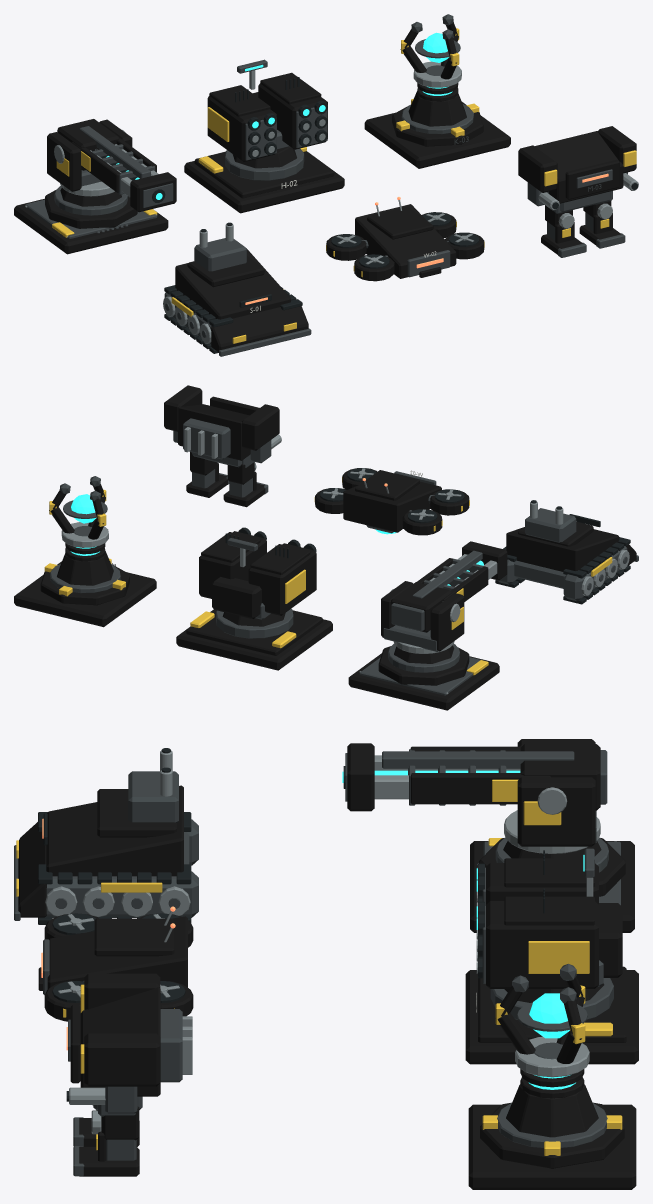
Rendered from Monolith_Tower_Defense_Collection.glb.
3 renders of one model, top to bottom at view 1: azimuth 30°, elevation 25°; view 2: azimuth 150°, elevation 25°; view 3: azimuth 270°, elevation 25°, orthographic. The views are drawn at different scales.
Parts seen in each view (by area): view 1: S01_Sledge_Chassis, Elevation.001_Geometry, W02_Wraith_Chassis, M03_Monolith_Chassis, K03_Arc_Chassis, H02_Havoc_Chassis, R01_Bastion_Chassis, Elevation_Geometry, Field_Array_Geometry, Azimuth_Geometry, Leg_L_Geometry, Leg_R_Geometry; view 2: S01_Sledge_Chassis, W02_Wraith_Chassis, K03_Arc_Chassis, M03_Monolith_Chassis, Elevation.001_Geometry, R01_Bastion_Chassis, H02_Havoc_Chassis, Elevation_Geometry, Azimuth_Geometry, Field_Array_Geometry, Azimuth.001_Geometry, Leg_L_Geometry (+1 smaller); view 3: S01_Sledge_Chassis, K03_Arc_Chassis, Elevation.001_Geometry, M03_Monolith_Chassis, Elevation_Geometry, W02_Wraith_Chassis, H02_Havoc_Chassis, Azimuth_Geometry, Field_Array_Geometry, R01_Bastion_Chassis, Leg_R_Geometry, Azimuth.001_Geometry (+1 smaller).
Boxes of the visible parts, x1,y1,x2,y2 form: S01_Sledge_Chassis: (163, 222, 311, 356); Elevation.001_Geometry: (207, 59, 327, 161); W02_Wraith_Chassis: (326, 197, 484, 281); M03_Monolith_Chassis: (518, 126, 638, 212); K03_Arc_Chassis: (364, 65, 510, 168); H02_Havoc_Chassis: (184, 146, 344, 213); R01_Bastion_Chassis: (14, 186, 168, 254); Elevation_Geometry: (57, 119, 176, 212); Field_Array_Geometry: (400, 14, 461, 87); Azimuth_Geometry: (47, 119, 132, 196); Leg_L_Geometry: (541, 204, 586, 257); Leg_R_Geometry: (579, 191, 625, 248); S01_Sledge_Chassis: (495, 500, 638, 604); W02_Wraith_Chassis: (314, 468, 469, 535); K03_Arc_Chassis: (14, 526, 156, 627); M03_Monolith_Chassis: (164, 385, 281, 467); Elevation.001_Geometry: (199, 527, 316, 615); R01_Bastion_Chassis: (348, 644, 499, 710); H02_Havoc_Chassis: (176, 609, 332, 670); Elevation_Geometry: (391, 541, 507, 632); Azimuth_Geometry: (381, 581, 464, 653); Field_Array_Geometry: (49, 476, 108, 547); Azimuth.001_Geometry: (212, 577, 270, 619); Leg_L_Geometry: (223, 454, 268, 507); S01_Sledge_Chassis: (14, 748, 198, 924); K03_Arc_Chassis: (468, 1042, 636, 1189); Elevation.001_Geometry: (476, 848, 598, 988); M03_Monolith_Chassis: (66, 973, 192, 1113); Elevation_Geometry: (342, 743, 607, 811); W02_Wraith_Chassis: (38, 906, 193, 1021); H02_Havoc_Chassis: (465, 966, 638, 1064); Azimuth_Geometry: (504, 739, 600, 853); Field_Array_Geometry: (495, 963, 589, 1077); R01_Bastion_Chassis: (470, 837, 634, 932); Leg_R_Geometry: (73, 1097, 139, 1176); Azimuth.001_Geometry: (597, 903, 622, 986).
Bounding box in the file's own units: 14.43 × 3.63 × 11.37.
